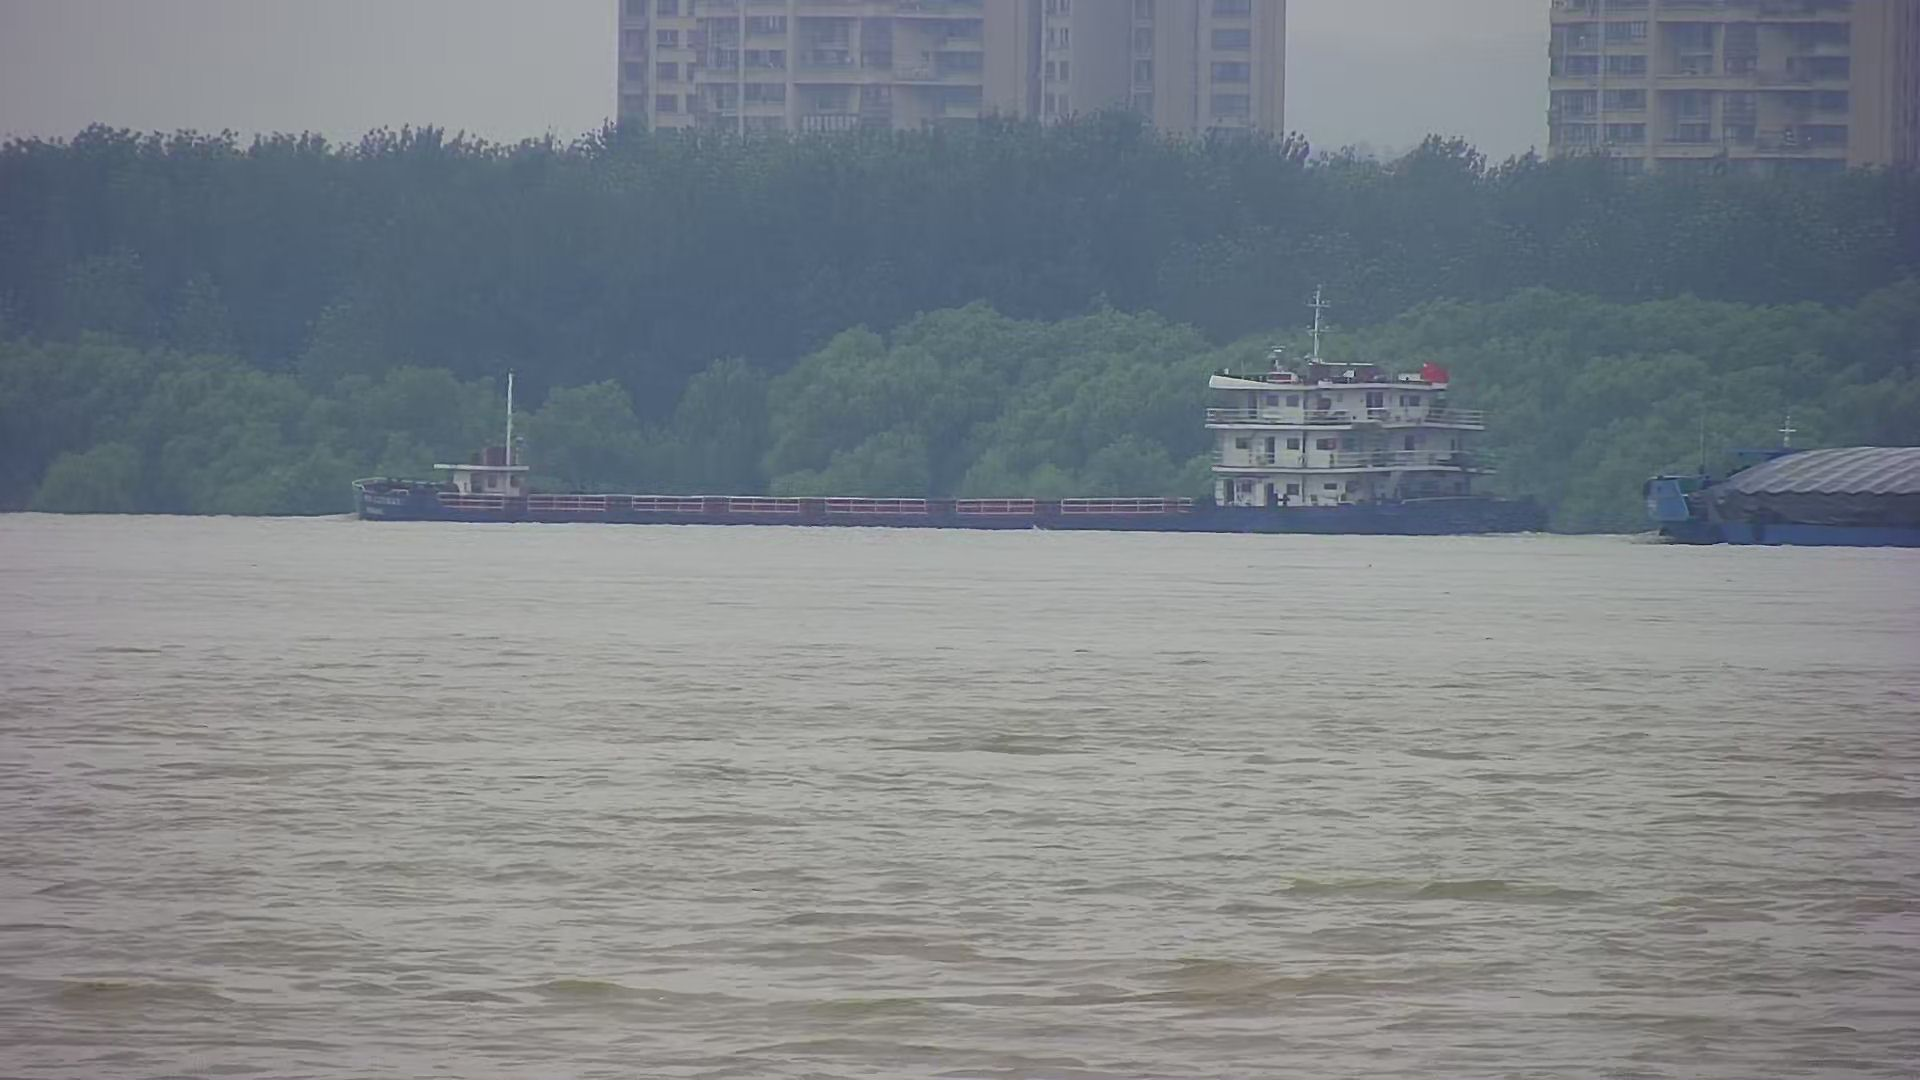ship: (345, 340, 1544, 537), (1598, 371, 1920, 559)
